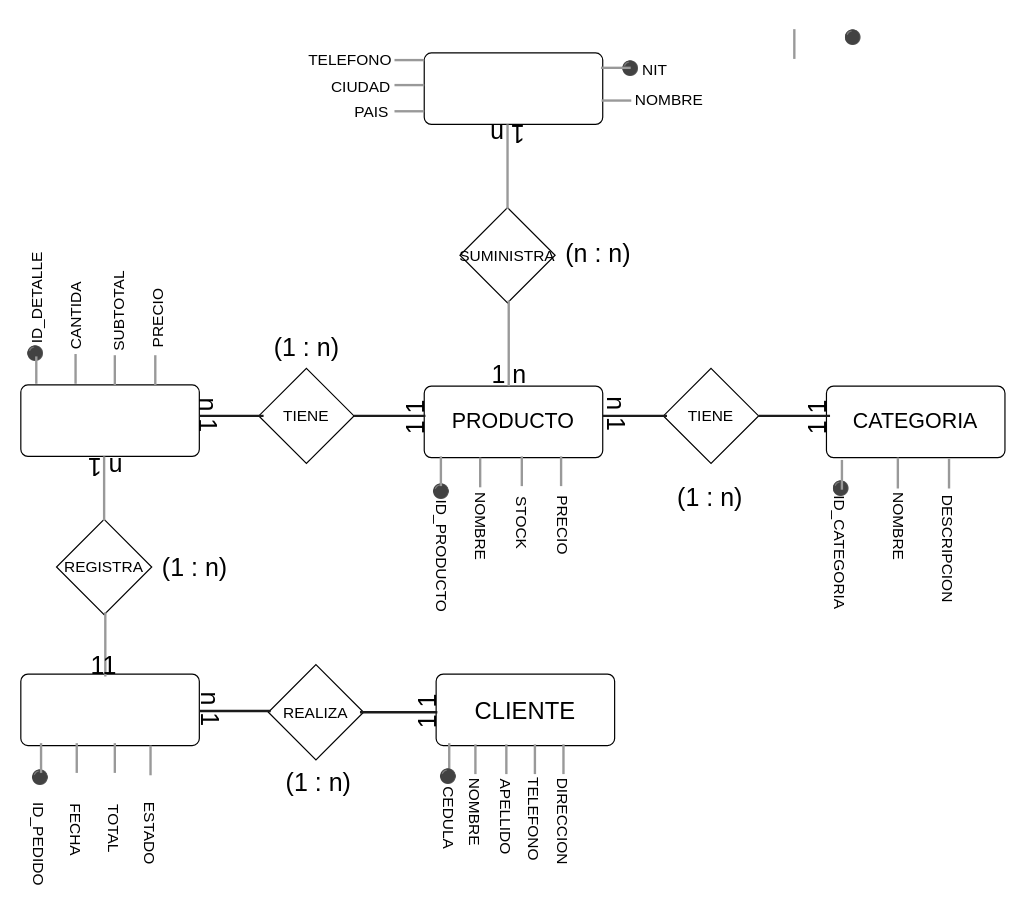
Some shapes in this 1026 by 907 pixel diagram are drawn without their labels. The shapes that lost their labels are listed below. From the top down, each one's box as (x1, y1, x2, y2) in pixels, then its label:
(423, 52, 603, 124): PROVEEDOR
(20, 384, 199, 456): DETALLE_PEDIDO
(20, 673, 199, 746): PEDIDO
